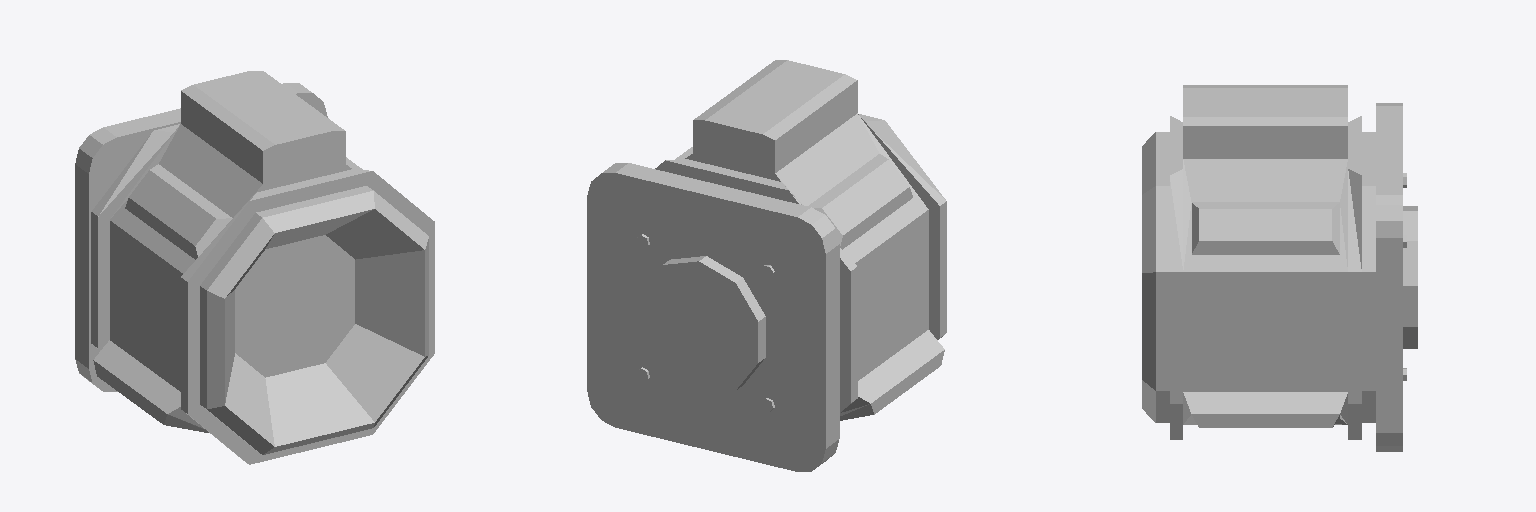
The model's file is obj_interactive_smartController.obj.
3 views of the same model, side by side, from view 1: azimuth 30°, elevation 25°; view 2: azimuth 150°, elevation 25°; view 3: azimuth 270°, elevation 25° (orthographic).
Visible parts, largest first — view 1: Cube; view 2: Cube; view 3: Cube.
Part boxes in pixels (x1,y1,x2,y2): Cube: (75,71,434,464); Cube: (587,60,946,471); Cube: (1142,85,1417,451).
Size of the model in its own units: 2.1 by 2.32 by 1.89.